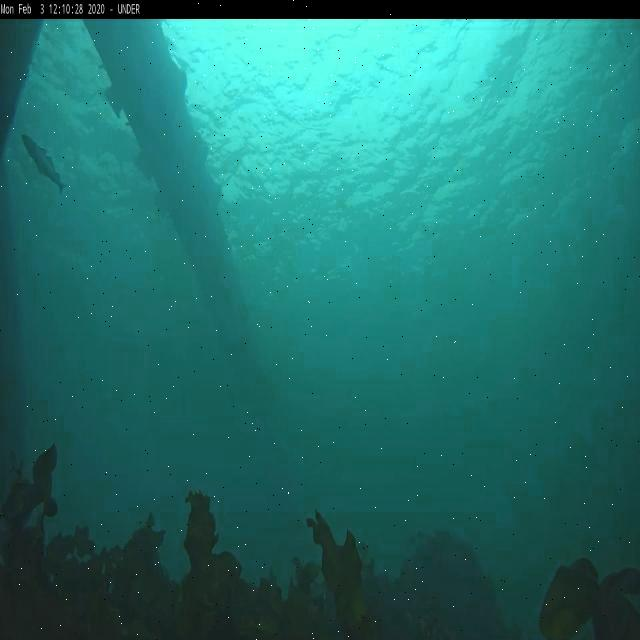fish: (20, 132, 66, 196)
